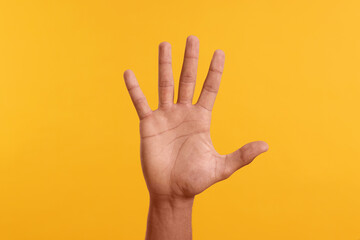Hello: (119, 29, 274, 206)
